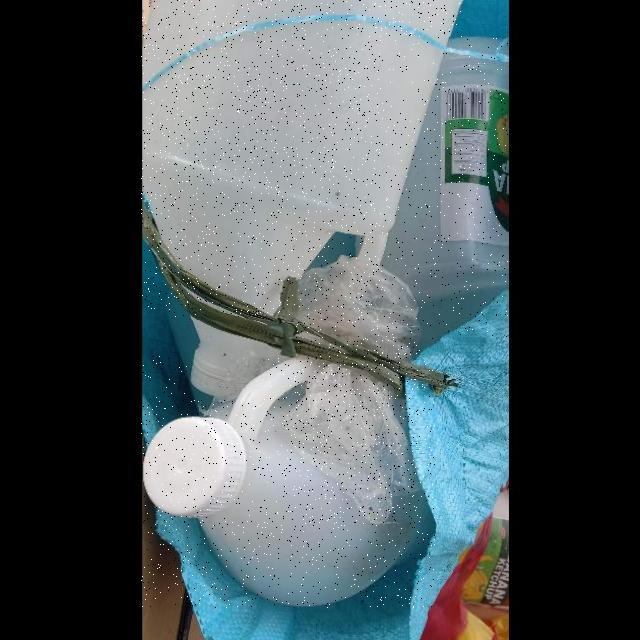plastic: (141, 0, 463, 317), (142, 357, 435, 608), (381, 38, 508, 340), (284, 360, 421, 525), (296, 255, 422, 365), (189, 321, 268, 399)
